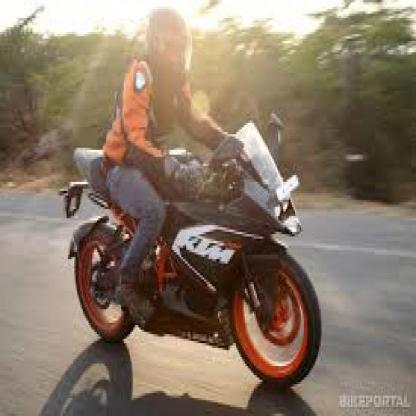bike: (64, 182, 322, 388)
